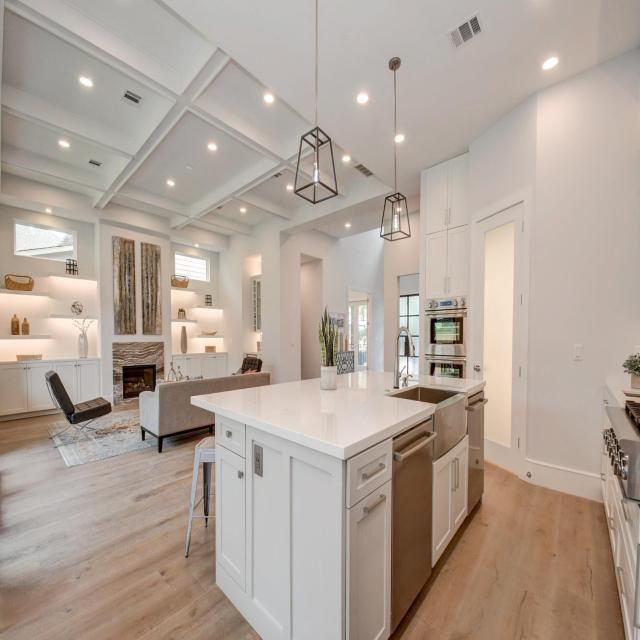dishwasher: (392, 417, 439, 640)
